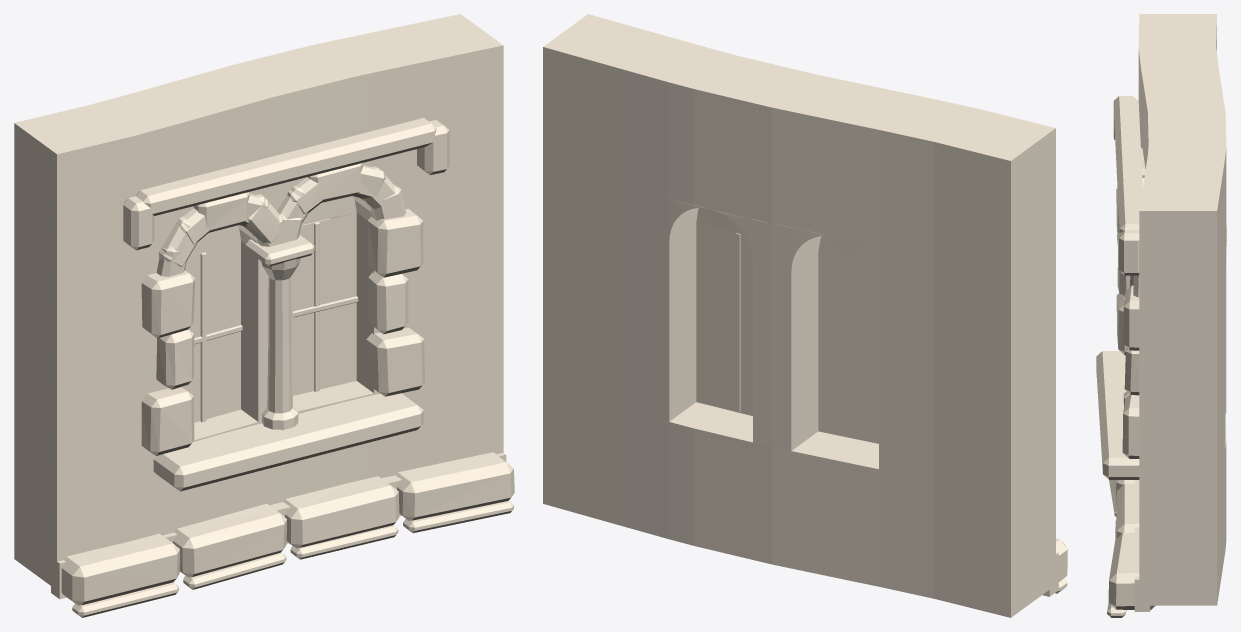
Rendered from SM_VK_Wall_StoneUp_Twin.fbx.
3 views of the same model, side by side, from view 1: azimuth 30°, elevation 25°; view 2: azimuth 150°, elevation 25°; view 3: azimuth 270°, elevation 25° (orthographic). The views are drawn at different scales.
Visible parts, largest first — view 1: SM_VK_Wall_StoneUp_Twin.001; view 2: SM_VK_Wall_StoneUp_Twin.001; view 3: SM_VK_Wall_StoneUp_Twin.001.
Boxes of the visible parts, x1,y1,x2,y2 form: SM_VK_Wall_StoneUp_Twin.001: (14,14,514,617); SM_VK_Wall_StoneUp_Twin.001: (543,14,1067,617); SM_VK_Wall_StoneUp_Twin.001: (1096,14,1226,617).
Bounding box in the file's own units: 3 × 2.91 × 0.84.
